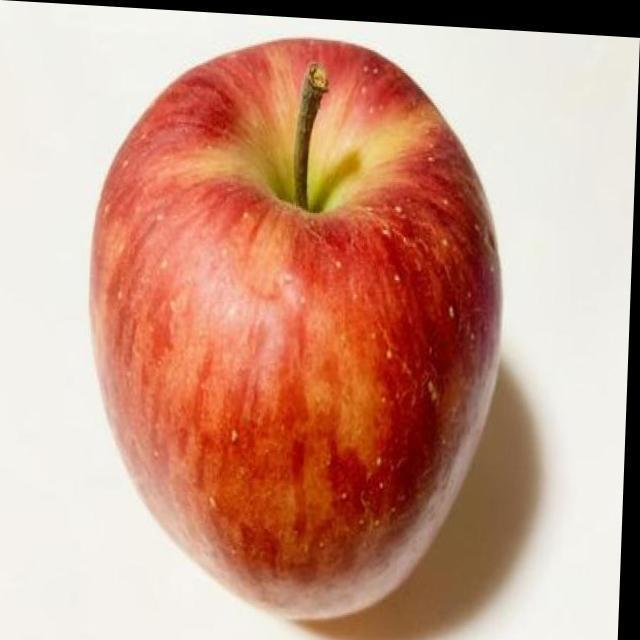apple: (87, 36, 504, 623)
